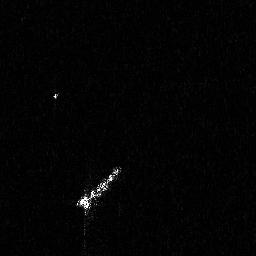ship: (76, 166, 123, 220)
